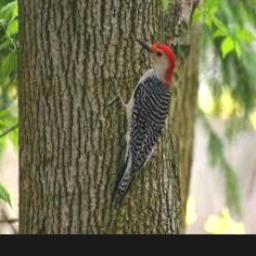Woodpecker: (107, 37, 176, 198)
